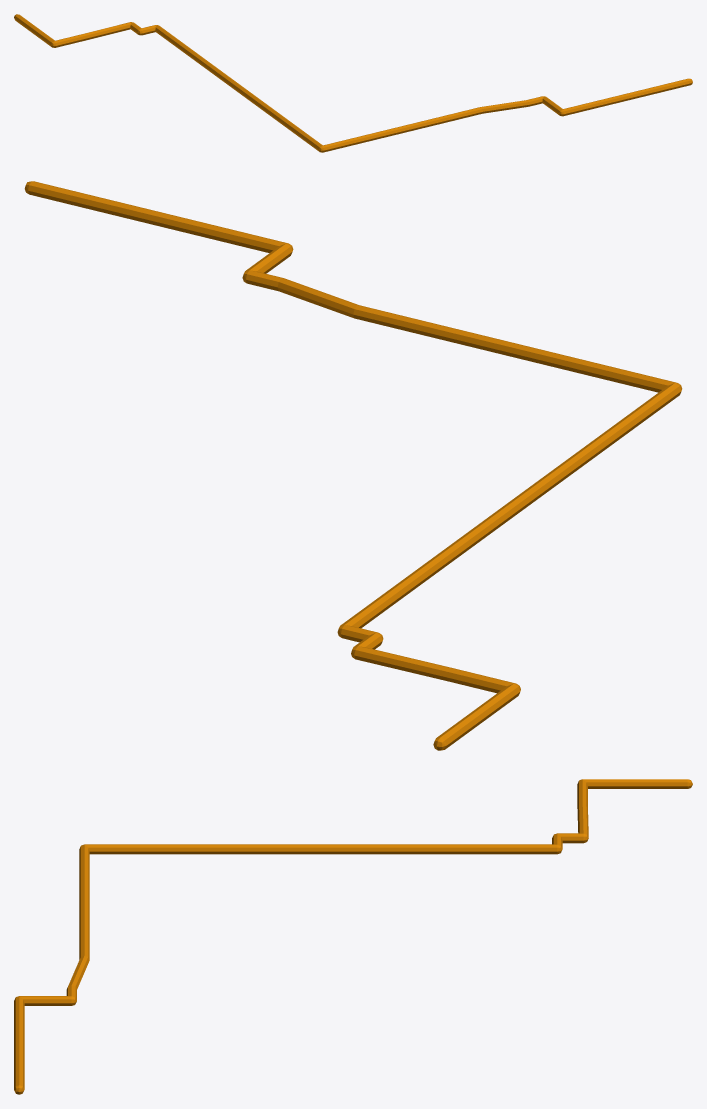
3 renders of one model, top to bottom at view 1: azimuth 30°, elevation 25°; view 2: azimuth 150°, elevation 25°; view 3: azimuth 270°, elevation 25°, orthographic. The views are drawn at different scales.
Size of the model in its own units: 1397 by 20 by 1292.
